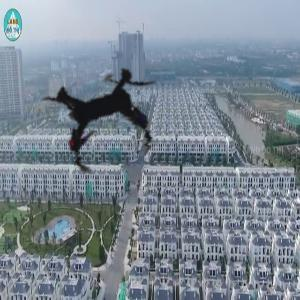drone: (4, 7, 212, 215)
